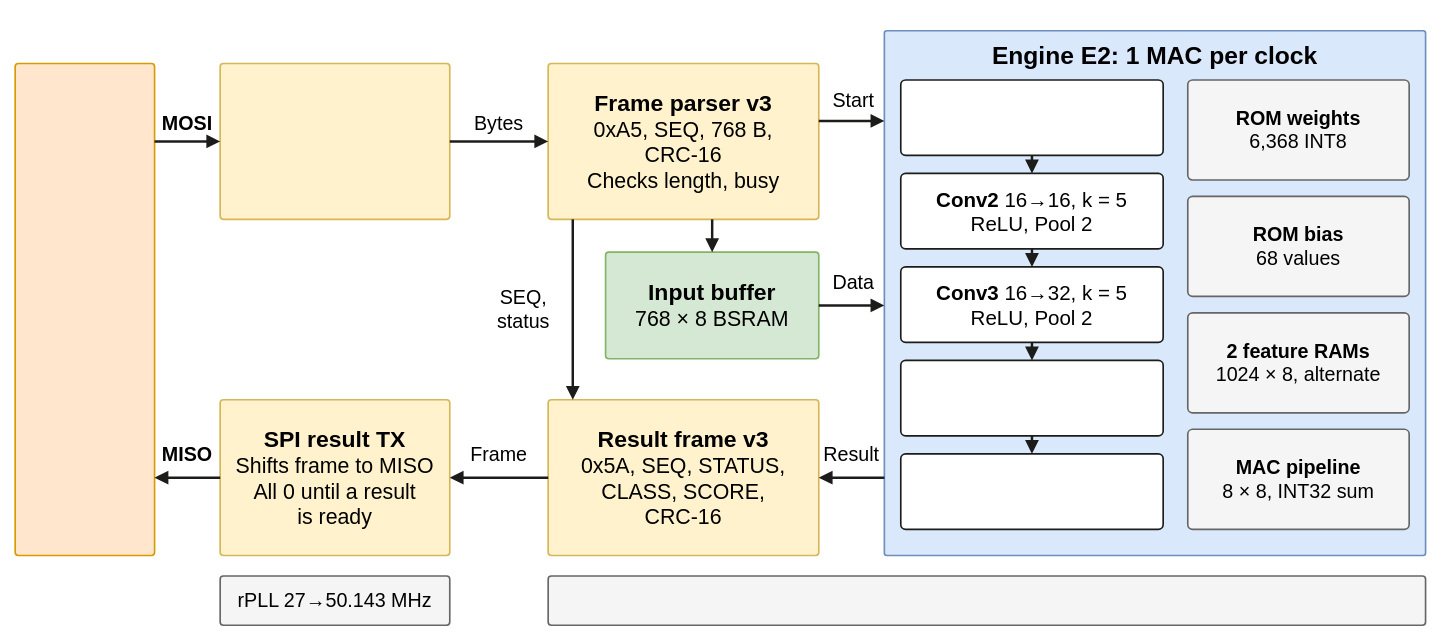
Some shapes in this 1440 by 643 pixel diagram are drawn without their labels. Here are the shapes that lost their labels. From the top down, the centre of each, then its label:
the point at 1032,117: Conv1 6→16, k = 5 ReLU, Pool 2
the point at 334,141: SPI slave Mode 0 3-FF sync of SCK, CS, MOSI
the point at 84,309: ESP32 SPI master
the point at 1032,397: Dense 512→4 4 logits
the point at 1032,491: Argmax + score Class, 0…127
the point at 986,600: One clock domain, no packaged AI IP
